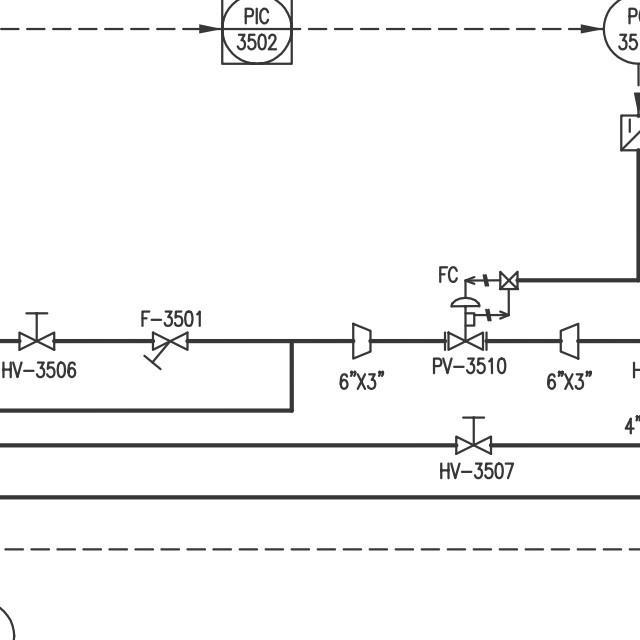CBV: (436, 267, 520, 358)
HV: (450, 412, 496, 456), (15, 308, 59, 352)
S: (142, 326, 194, 372)
SP: (347, 318, 375, 362), (556, 319, 584, 362)
